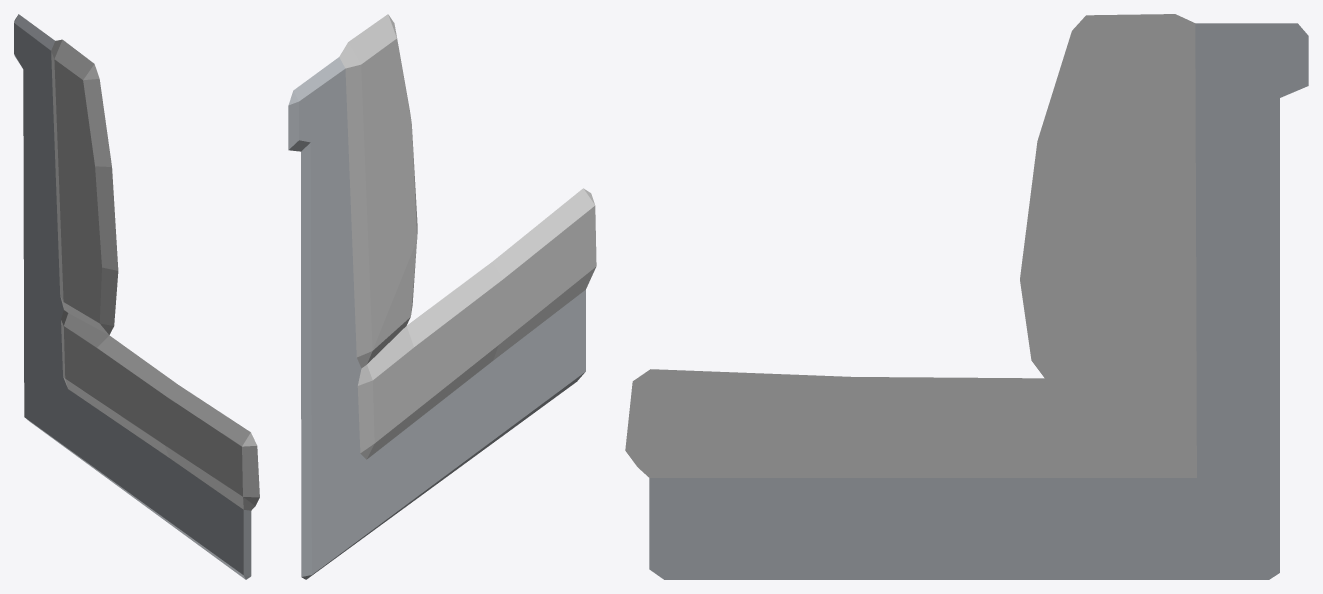
Rendered from SM_Prop_Sofa_03_End_01.fbx.
3 renders of one model, left to right at view 1: azimuth 30°, elevation 25°; view 2: azimuth 150°, elevation 25°; view 3: azimuth 270°, elevation 25°, orthographic. The views are drawn at different scales.
Visible parts, largest first — view 1: SM_Prop_Sofa_03_End_01; view 2: SM_Prop_Sofa_03_End_01; view 3: SM_Prop_Sofa_03_End_01.
Part boxes in pixels (left/top/right/bottom): SM_Prop_Sofa_03_End_01: left=14, top=14, right=259, bottom=579; SM_Prop_Sofa_03_End_01: left=288, top=14, right=596, bottom=579; SM_Prop_Sofa_03_End_01: left=625, top=14, right=1308, bottom=579.
Bounding box in the file's own units: 2.48 × 102 × 112.
